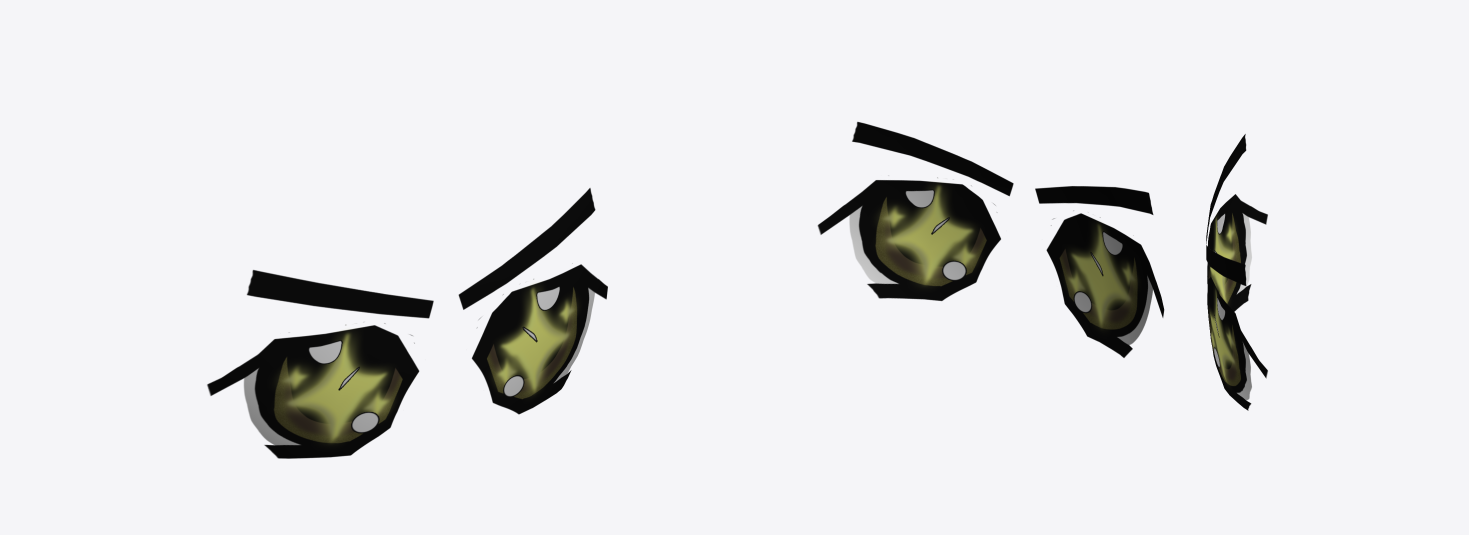
File: Remilio_Star_Brown.glb
The picture shows the model from 3 angles, left to right: view 1: azimuth 30°, elevation 25°; view 2: azimuth 150°, elevation 25°; view 3: azimuth 270°, elevation 25°; orthographic projection. The views are drawn at different scales.
Parts seen in each view (by area): view 1: Remilio_Star_Brown; view 2: Remilio_Star_Brown; view 3: Remilio_Star_Brown.
Boxes of the visible parts, box(x1,y1,x2,y2) form: Remilio_Star_Brown: box(207, 188, 607, 458); Remilio_Star_Brown: box(817, 122, 1164, 357); Remilio_Star_Brown: box(1206, 134, 1267, 410).
Bounding box in the file's own units: 0.8827 × 0.6239 × 0.4009.
Materials: 1 (1 with a texture image).
